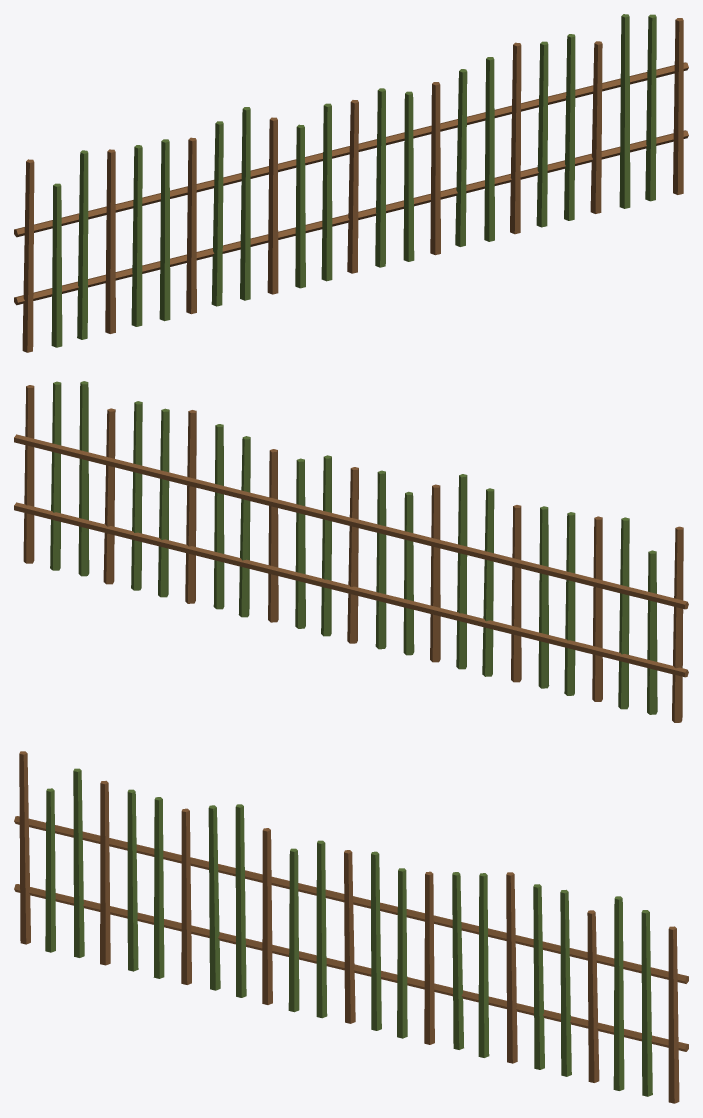
Rendered from rao_tre.glb.
The picture shows the model from 3 angles, top to bottom: view 1: azimuth 30°, elevation 25°; view 2: azimuth 150°, elevation 25°; view 3: azimuth 330°, elevation 25°; orthographic projection.
Parts seen in each view (by area): view 1: nep1.05, nep0.45, coc0, coc22, coc8, coc18, coc2, coc23, coc20, coc4, coc19, coc17 (+15 smaller); view 2: nep1.05, nep0.45, coc0, coc8, coc18, coc22, coc2, coc20, coc19, coc23, coc7, coc4 (+15 smaller); view 3: nep1.05, nep0.45, coc8, coc22, coc0, coc18, coc2, coc20, coc4, coc23, coc19, coc7 (+15 smaller).
Boxes of the visible parts, left/top/right/bottom form: nep1.05: left=14, top=62, right=688, bottom=237; nep0.45: left=14, top=130, right=688, bottom=305; coc0: left=22, top=159, right=34, bottom=352; coc22: left=619, top=14, right=630, bottom=208; coc8: left=240, top=107, right=250, bottom=300; coc18: left=510, top=42, right=521, bottom=234; coc2: left=77, top=150, right=88, bottom=339; coc23: left=645, top=14, right=656, bottom=201; coc20: left=564, top=34, right=575, bottom=220; coc4: left=131, top=145, right=142, bottom=326; coc19: left=536, top=41, right=548, bottom=227; coc17: left=484, top=57, right=494, bottom=241; nep1.05: left=14, top=434, right=688, bottom=609; nep0.45: left=14, top=502, right=688, bottom=677; coc0: left=672, top=526, right=683, bottom=722; coc8: left=456, top=474, right=467, bottom=669; coc18: left=185, top=410, right=196, bottom=603; coc22: left=78, top=381, right=89, bottom=576; coc2: left=618, top=517, right=629, bottom=709; coc20: left=131, top=401, right=142, bottom=590; coc19: left=158, top=408, right=169, bottom=597; coc23: left=50, top=381, right=61, bottom=570; coc7: left=482, top=488, right=494, bottom=676; coc4: left=564, top=512, right=575, bottom=695; nep1.05: left=14, top=816, right=688, bottom=983; nep0.45: left=14, top=884, right=688, bottom=1051; coc8: left=235, top=804, right=246, bottom=997; coc22: left=613, top=896, right=624, bottom=1090; coc0: left=19, top=751, right=30, bottom=944; coc18: left=506, top=872, right=517, bottom=1063; coc2: left=73, top=768, right=84, bottom=957; coc20: left=560, top=889, right=571, bottom=1076; coc4: left=127, top=789, right=138, bottom=971; coc23: left=641, top=910, right=652, bottom=1096; coc19: left=533, top=884, right=544, bottom=1069; coc7: left=208, top=805, right=220, bottom=990.
Size of the model in its own units: 6.2 by 1.69 by 0.1239.
